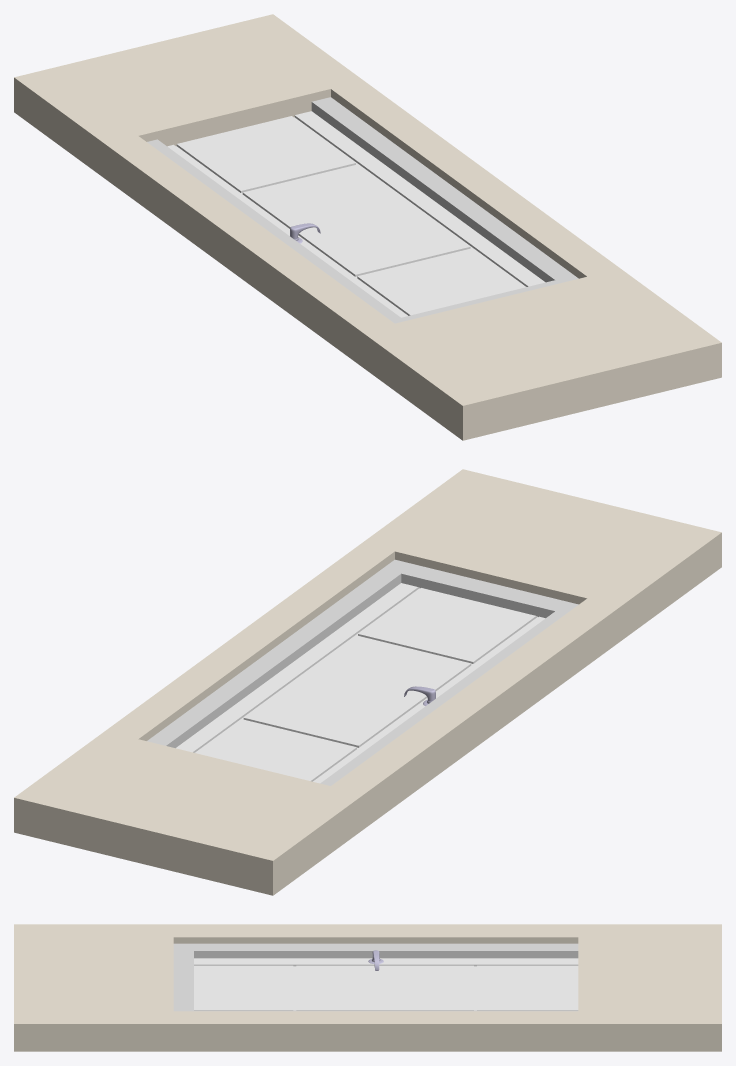
File: Door01.gltf
The picture shows the model from 3 angles, top to bottom: view 1: azimuth 30°, elevation 25°; view 2: azimuth 150°, elevation 25°; view 3: azimuth 270°, elevation 25°; orthographic projection. The views are drawn at different scales.
Visible parts, largest first — view 1: SIP, Door, DoorFrame; view 2: SIP, Door, DoorFrame; view 3: SIP, Door, DoorFrame.
Boxes of the visible parts, x1,y1,x2,y2 form: SIP: (14,14,721,440); Door: (167,111,545,317); DoorFrame: (147,97,578,323); SIP: (14,469,721,895); Door: (176,583,545,783); DoorFrame: (147,559,578,785); SIP: (14,924,721,1051); Door: (194,958,578,1010); DoorFrame: (173,943,578,1011).
Size of the model in its own units: 1.17 by 0.1801 by 3.5.
